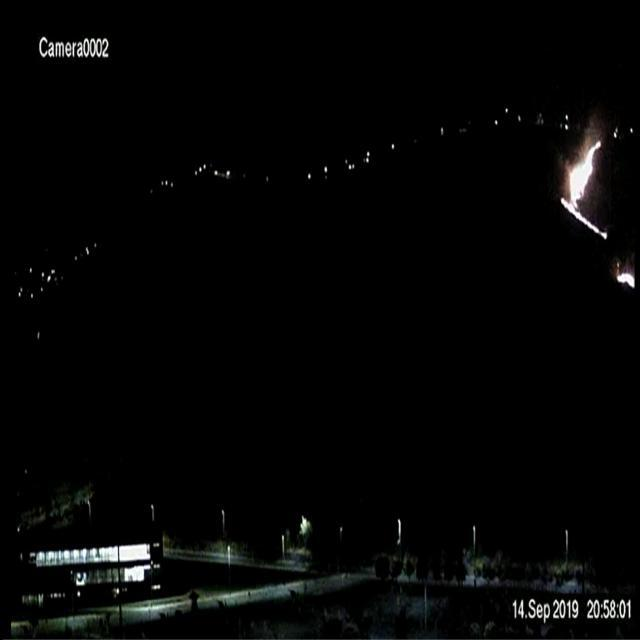Fire: (551, 132, 609, 242), (612, 250, 634, 290)
